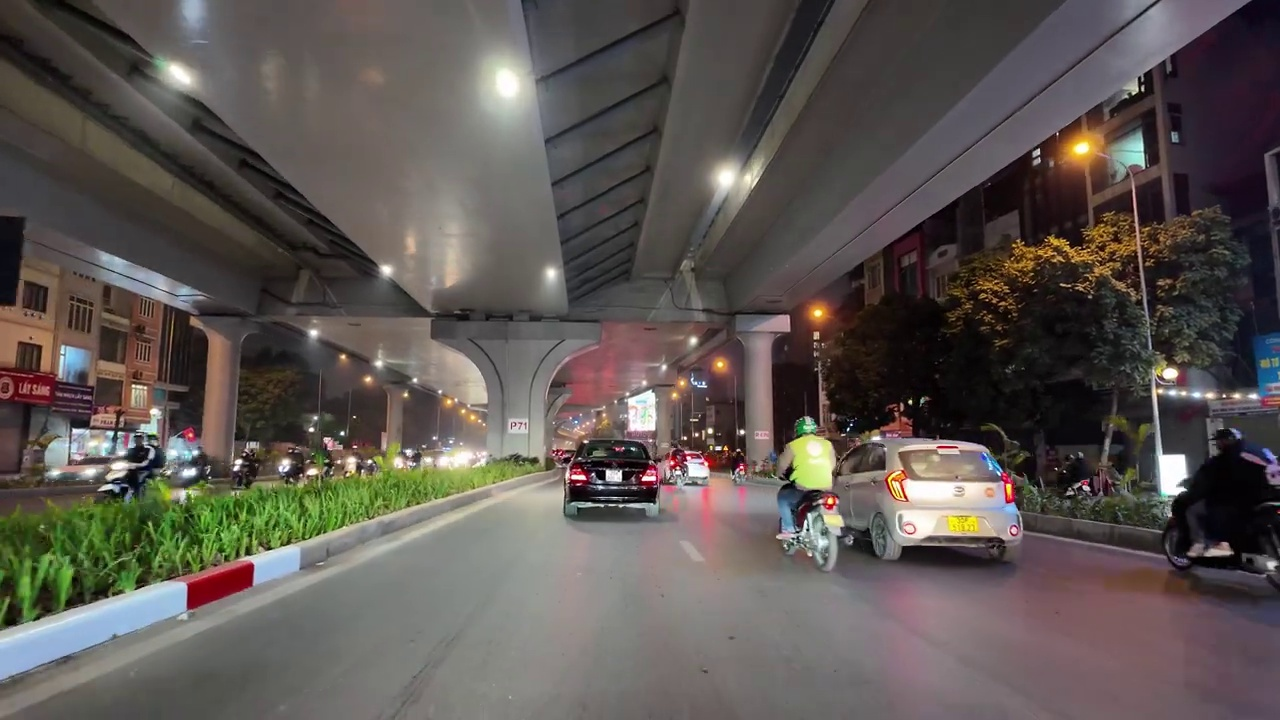acesa: (481, 61, 526, 106), (708, 161, 751, 195), (160, 57, 199, 92), (1065, 135, 1097, 163), (803, 300, 831, 327)
